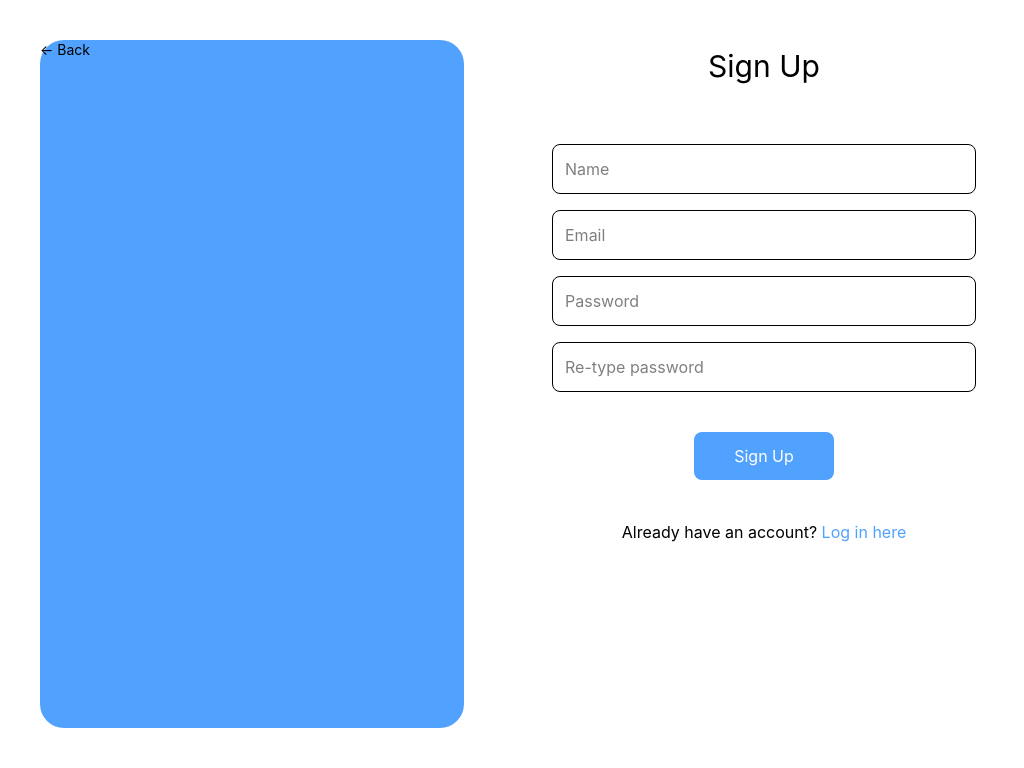
Test: Signup page › blocks weak passwords and shows a clear validation message
Type "Taylor" into the field with placeholder "Name" at (764, 169), box [552, 144, 976, 194]
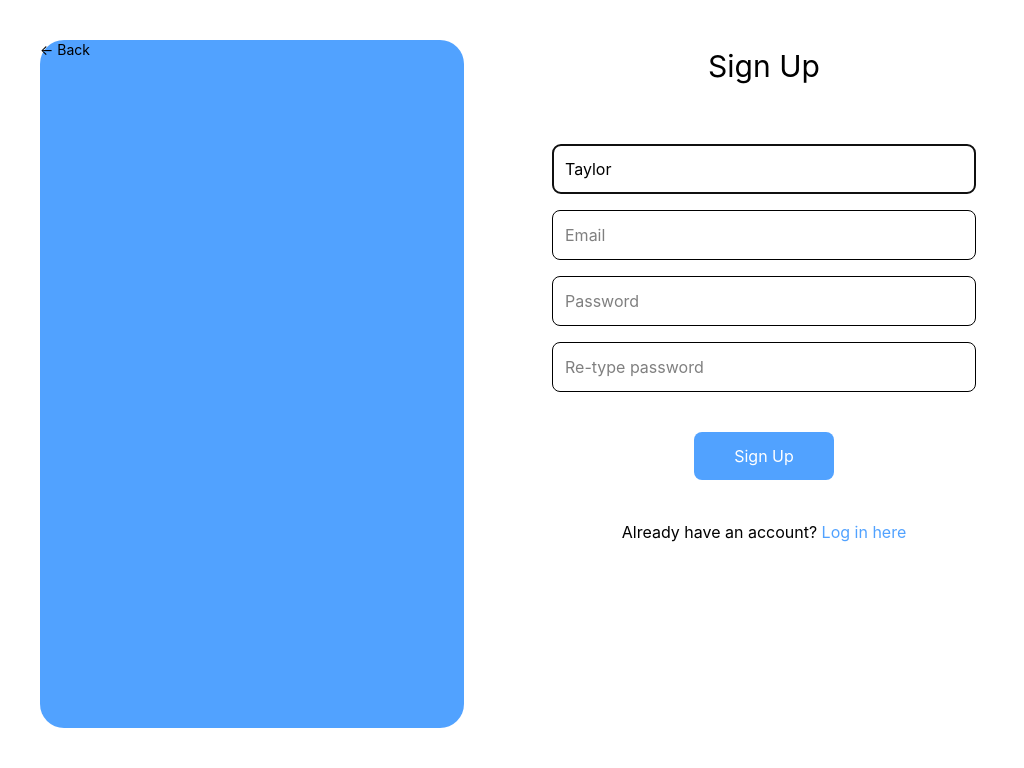
Type "taylor@test.com" into the field with placeholder "Email" at (764, 235), box [552, 210, 976, 260]
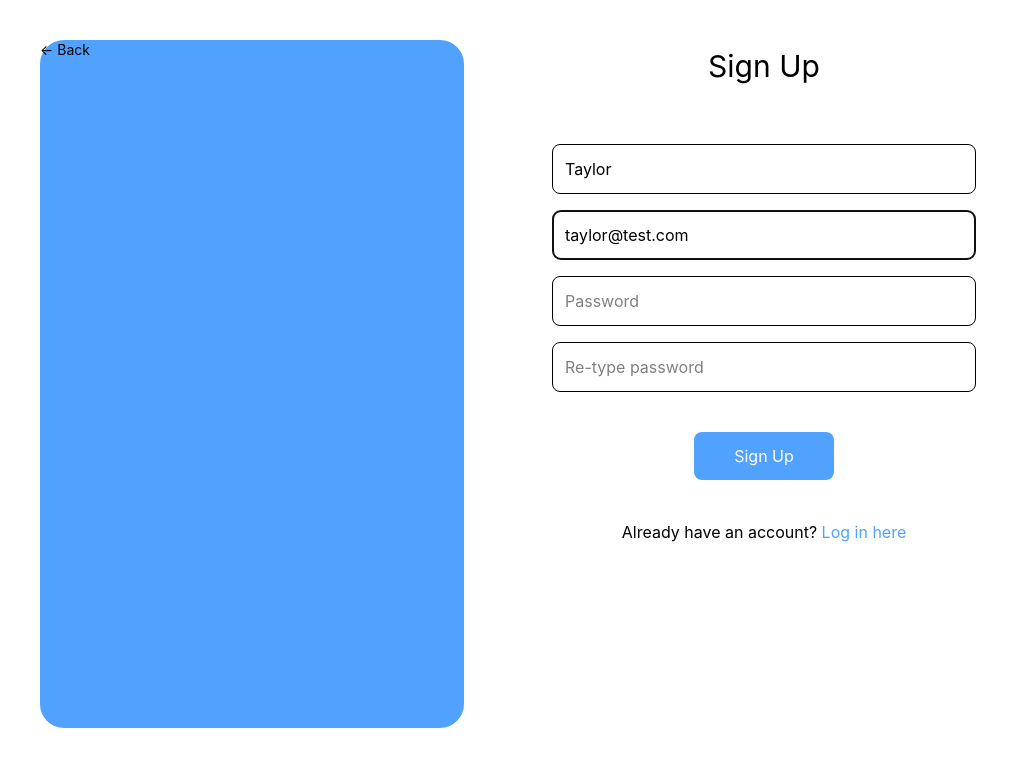
Type "weakpass" into the password field with placeholder "Password" at (764, 301), box [552, 276, 976, 326]
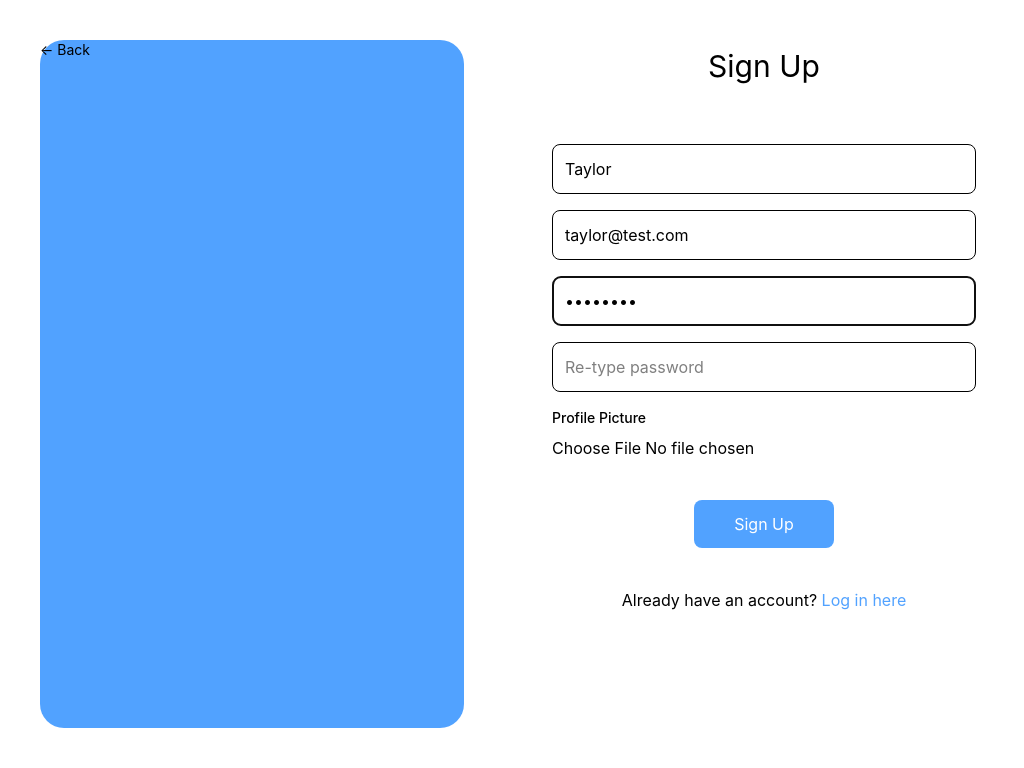
Type "weakpass" into the password field with placeholder "Re-type password" at (764, 367), box [552, 342, 976, 392]
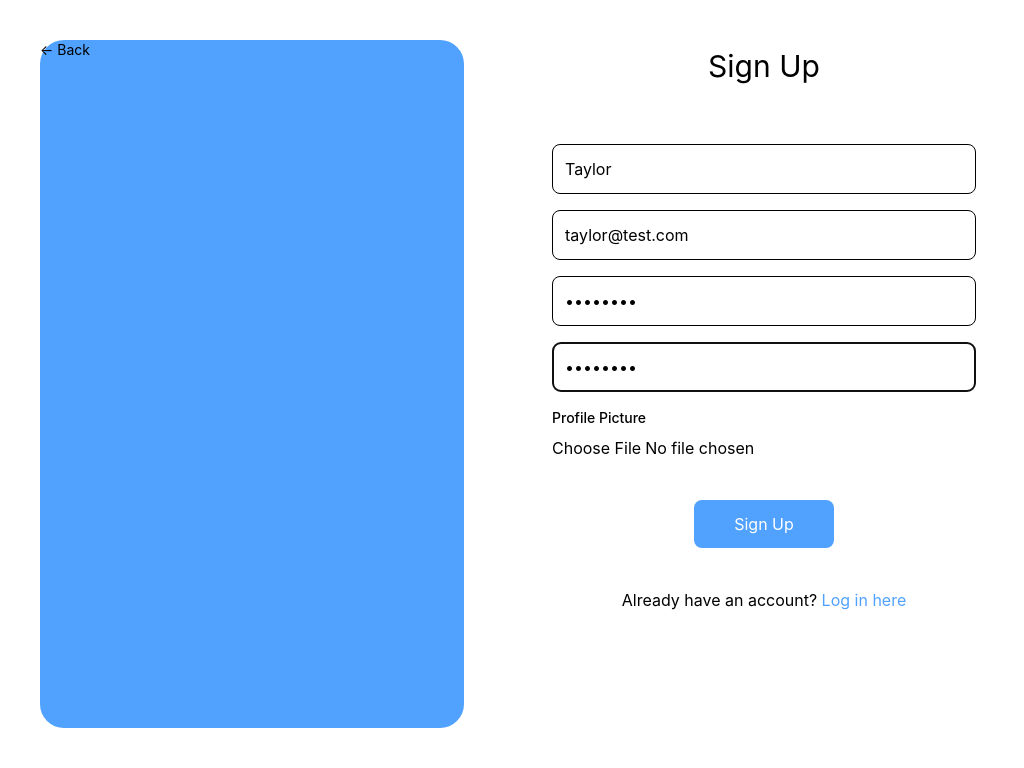
Click the button "Sign Up" at (764, 524), box [694, 500, 834, 548]
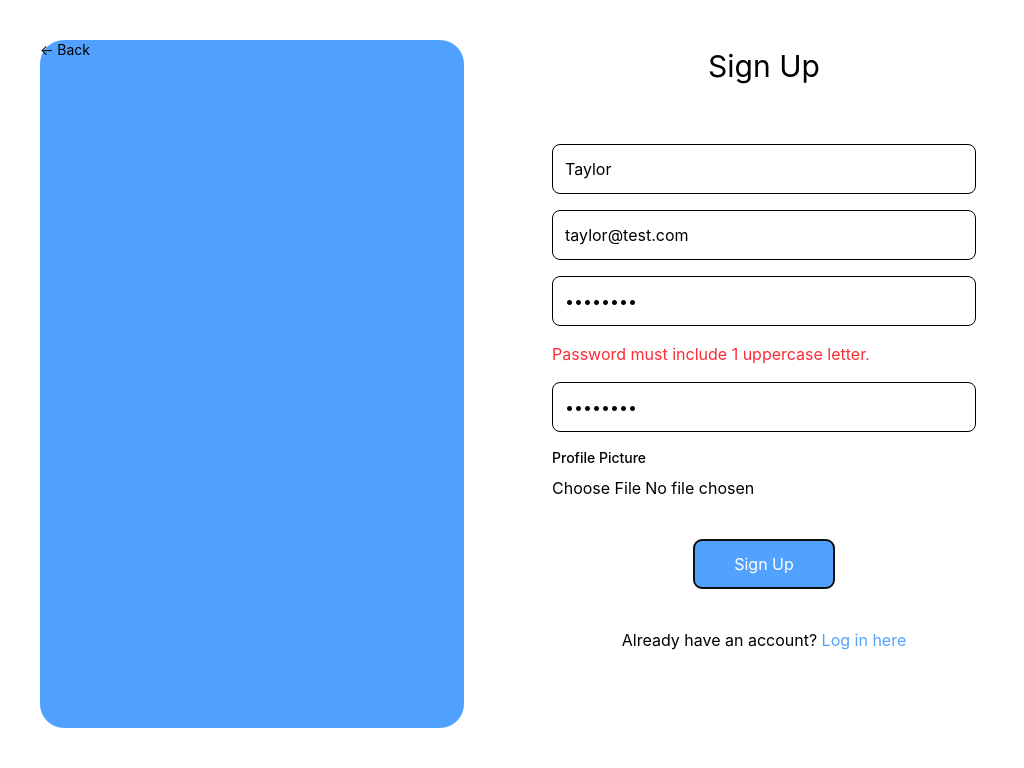
Now the text "Password must include 1 uppercase letter." is shown, box [552, 344, 870, 364]
